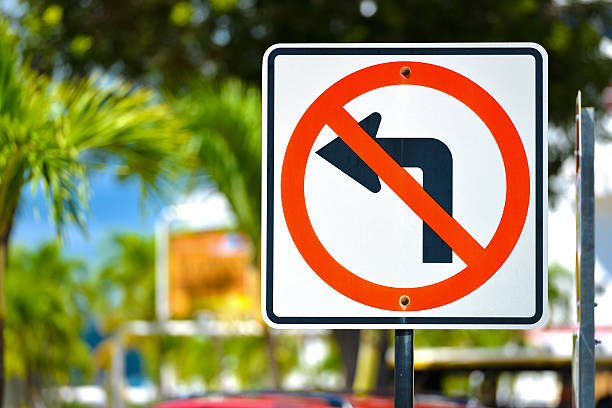sola_girilmez: (281, 56, 531, 307)
